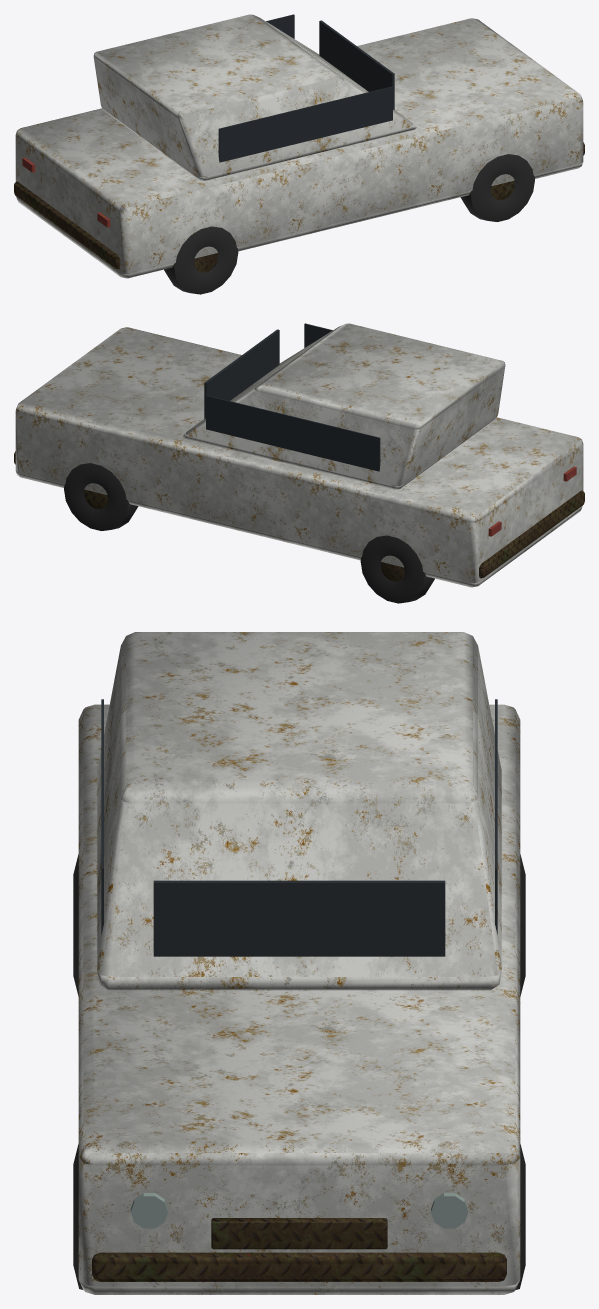
Rendered from veh_sedan_hatch.gltf.
3 renders of one model, top to bottom at view 1: azimuth 30°, elevation 25°; view 2: azimuth 150°, elevation 25°; view 3: azimuth 270°, elevation 25°, orthographic. The views are drawn at different scales.
Visible parts, largest first — view 1: box, box.002, box.003, torus, torus.002, box.005, box.001, box.004; view 2: box, box.002, box.004, torus.001, torus.003, box.005, box.001, box.003; view 3: box, box.002, box.005, box.001, box.006, cyl.004, cyl.005.
Part boxes in pixels (box(x1,y1,x2,y2)): box: box(15, 18, 583, 278); box.002: box(93, 14, 416, 180); box.003: box(218, 86, 392, 162); torus: box(460, 154, 534, 221); torus.002: box(164, 226, 238, 294); box.005: box(319, 20, 394, 110); box.001: box(14, 142, 584, 269); box.004: box(266, 14, 294, 38); box: box(15, 327, 583, 587); box.002: box(182, 323, 505, 489); box.004: box(206, 395, 380, 471); torus.001: box(64, 463, 138, 530); torus.003: box(360, 535, 434, 603); box.005: box(204, 329, 279, 419); box.001: box(14, 451, 584, 578); box.003: box(304, 323, 332, 347); box: box(78, 704, 520, 1294); box.002: box(97, 632, 501, 990); box.005: box(153, 880, 445, 956); box.001: box(92, 1252, 506, 1281); box.006: box(211, 1218, 387, 1249); cyl.004: box(130, 1193, 167, 1228); cyl.005: box(431, 1193, 468, 1228).
Bounding box in the file's own units: 4.07 × 1.46 × 1.69.
Materials: 6 (3 with a texture image).
